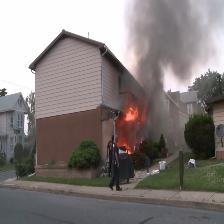fire: (115, 102, 152, 175)
smoke: (122, 2, 224, 133)
